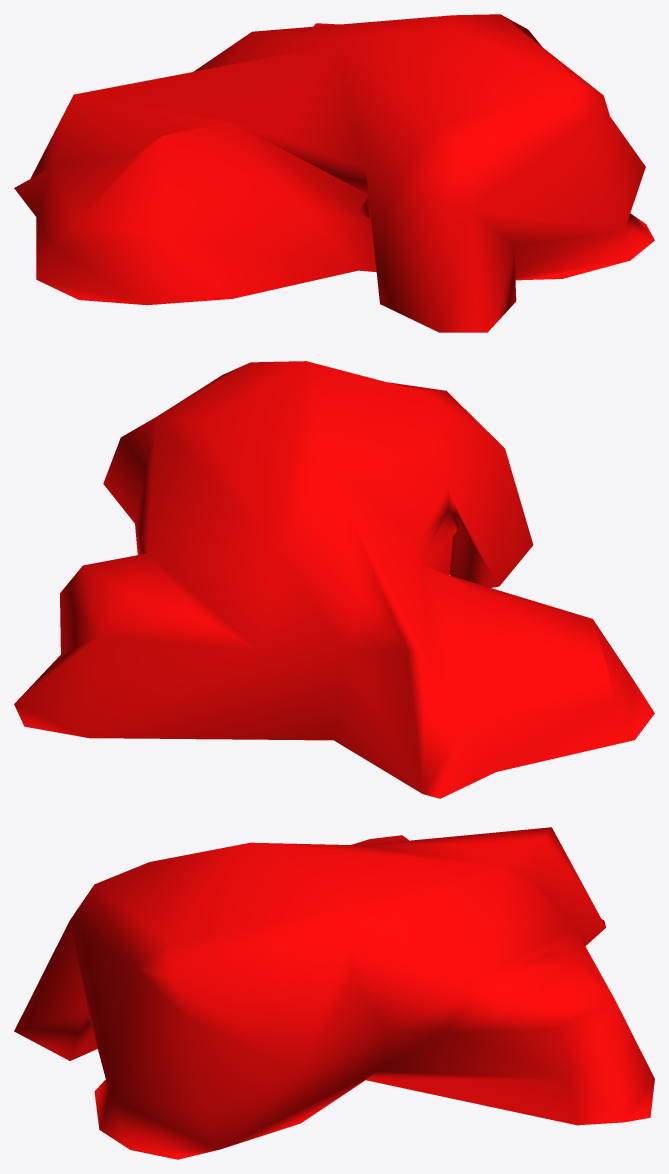
File: single_rock_colmesh.fbx
3 renders of one model, top to bottom at view 1: azimuth 30°, elevation 25°; view 2: azimuth 150°, elevation 25°; view 3: azimuth 270°, elevation 25°, orthographic. The views are drawn at different scales.
Visible parts, largest first — view 1: Mesh; view 2: Mesh; view 3: Mesh.
Boxes of the visible parts, x1=… form: Mesh: x1=14, y1=14, x2=654, y2=332; Mesh: x1=14, y1=361, x2=654, y2=798; Mesh: x1=14, y1=827, x2=654, y2=1159.
Size of the model in its own units: 1212 by 473 by 1163.
